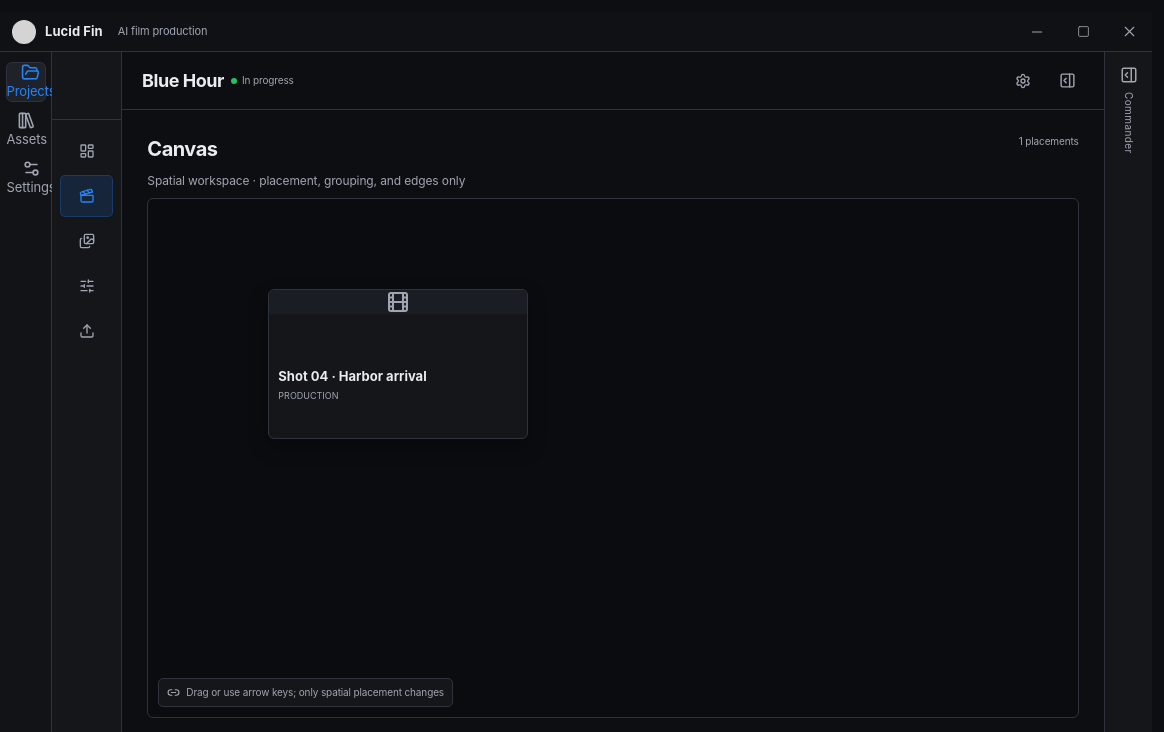
Scenario: Project workspaces › moves a Canvas placement through revision-checked canvas.apply
Press ArrowRight in the button with aria-label "select and move shot 04", box [268,289,528,439]
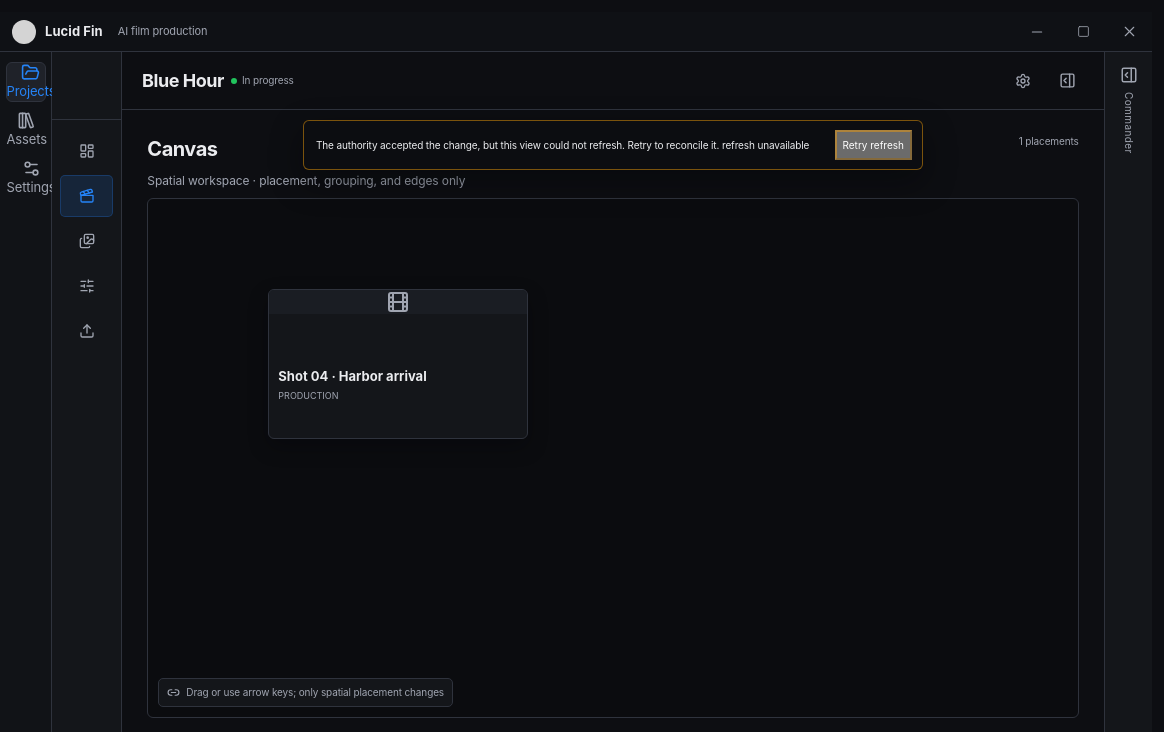
Result: the message shows "The authority accepted the change" at [316,139,809,151]
Click the button "Retry refresh": (873, 145) [834,130,912,160]
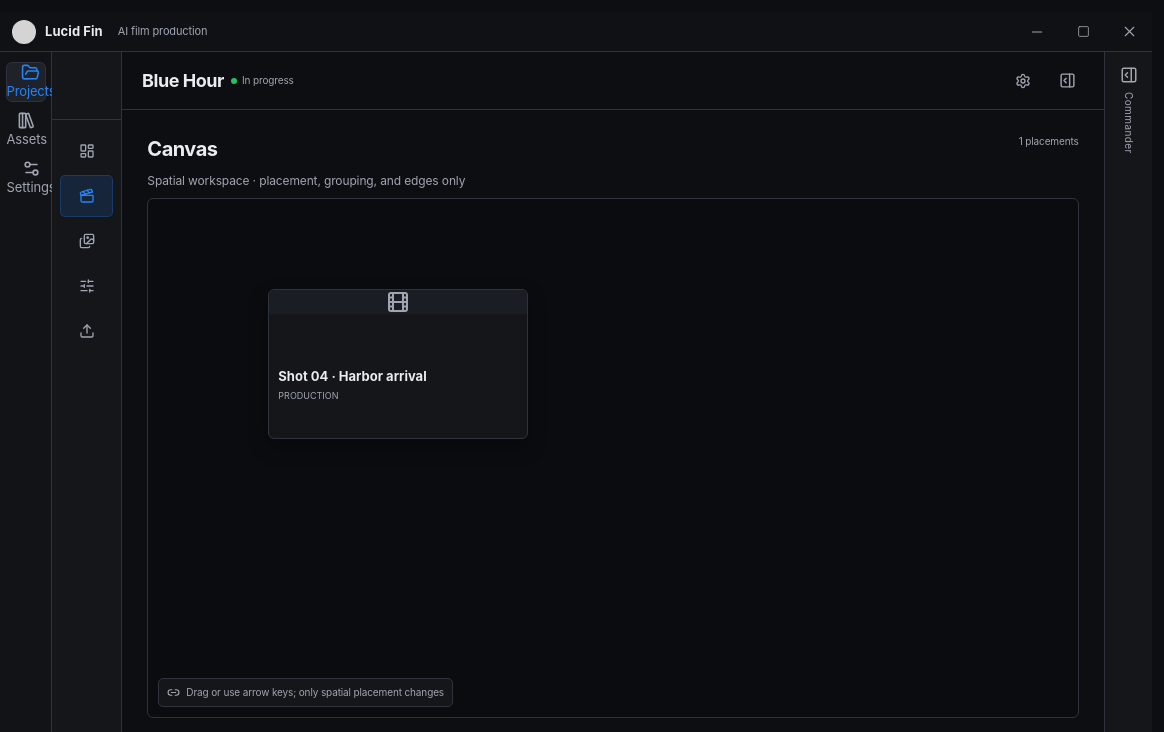
Result: the text "The authority accepted the change" is gone
